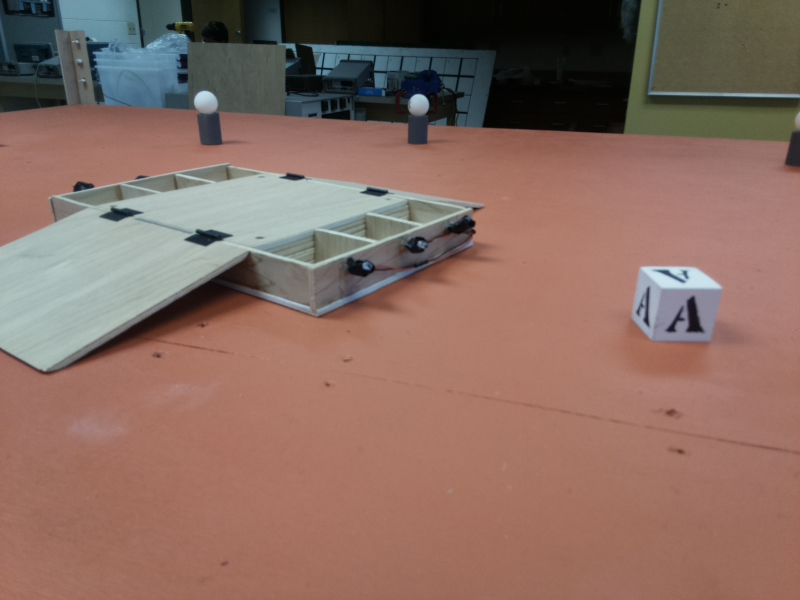blockA: (631, 266, 733, 345)
corner: (61, 28, 93, 110)
obstacle: (193, 90, 223, 146), (404, 93, 434, 144)
side: (298, 205, 484, 303)
slope: (1, 209, 257, 370)
